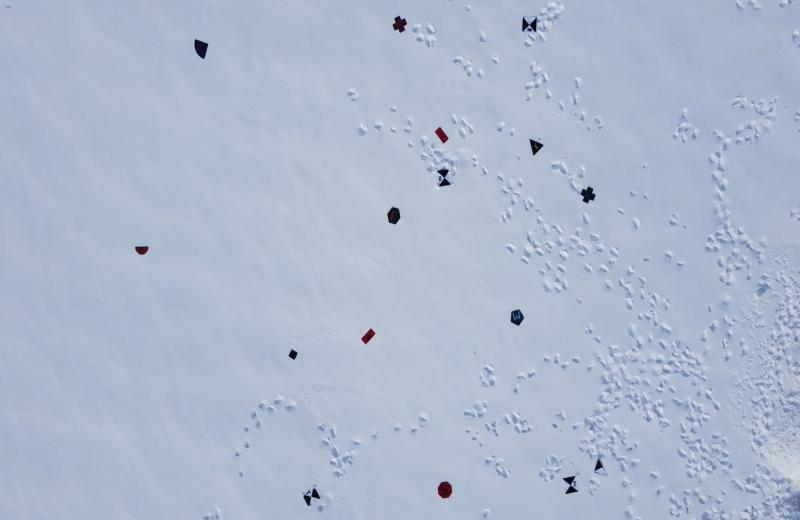Cross: (581, 185, 596, 204), (392, 15, 407, 34)
Hexagon: (386, 205, 402, 226)
Octagon: (437, 481, 453, 499)
Pentagon: (510, 309, 524, 327)
Quarter Circle: (191, 38, 209, 61)
Rectangle: (435, 125, 449, 145), (360, 328, 376, 345)
Semi Circle: (134, 245, 150, 256)
Square: (289, 349, 299, 360)
Triangle: (528, 137, 544, 158)
